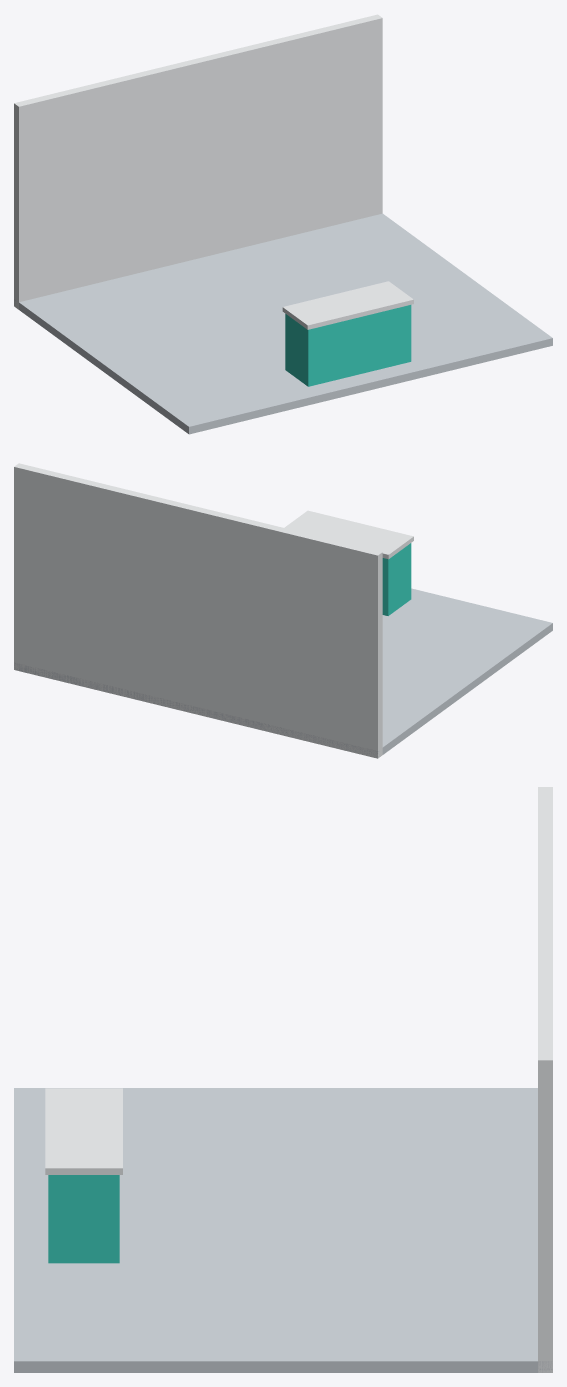
The picture shows the model from 3 angles, top to bottom: view 1: azimuth 30°, elevation 25°; view 2: azimuth 150°, elevation 25°; view 3: azimuth 270°, elevation 25°; orthographic projection. The views are drawn at different scales.
Parts seen in each view (by area): view 1: Exhibition Booth Concept; view 2: Exhibition Booth Concept; view 3: Exhibition Booth Concept.
Part boxes in pixels (box(x1,y1,x2,y2)): Exhibition Booth Concept: box(14, 14, 552, 434); Exhibition Booth Concept: box(14, 463, 552, 758); Exhibition Booth Concept: box(14, 787, 552, 1372).
Bounding box in the file's own units: 6 × 3.2 × 5.
